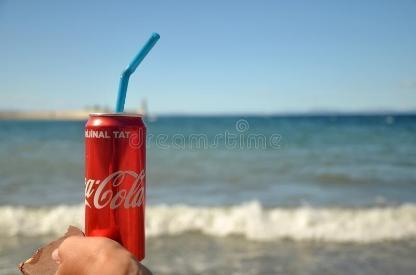Can: (83, 111, 147, 262)
